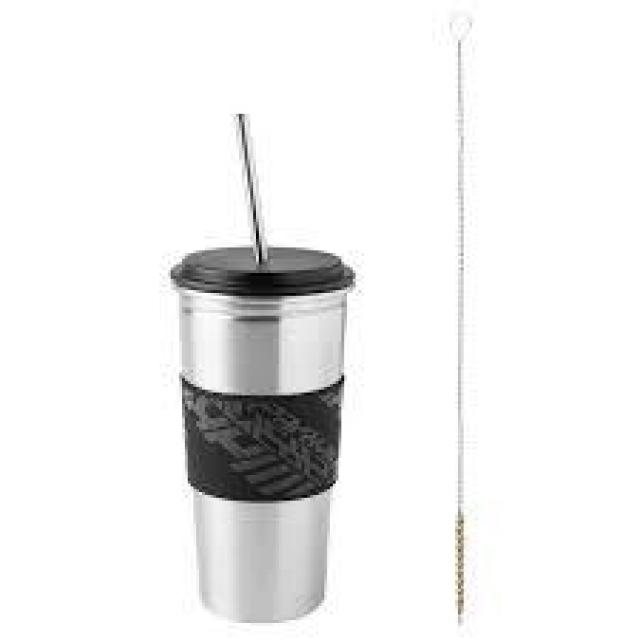bottle: (168, 113, 364, 622)
